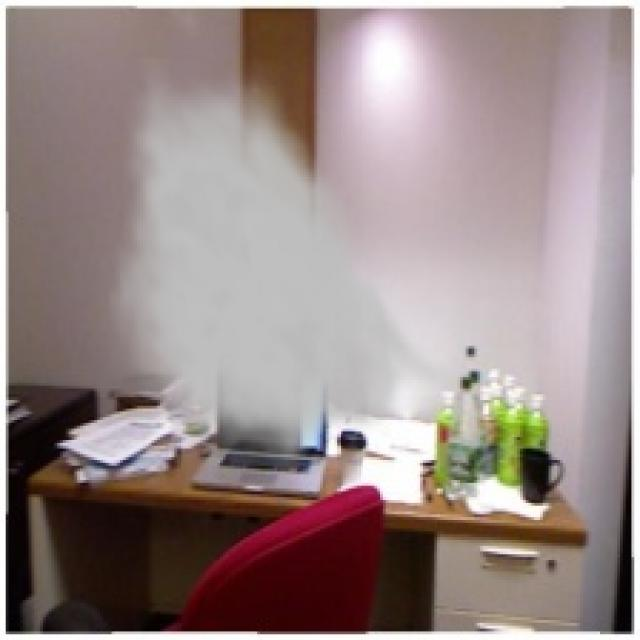smoke: (109, 54, 472, 480)
